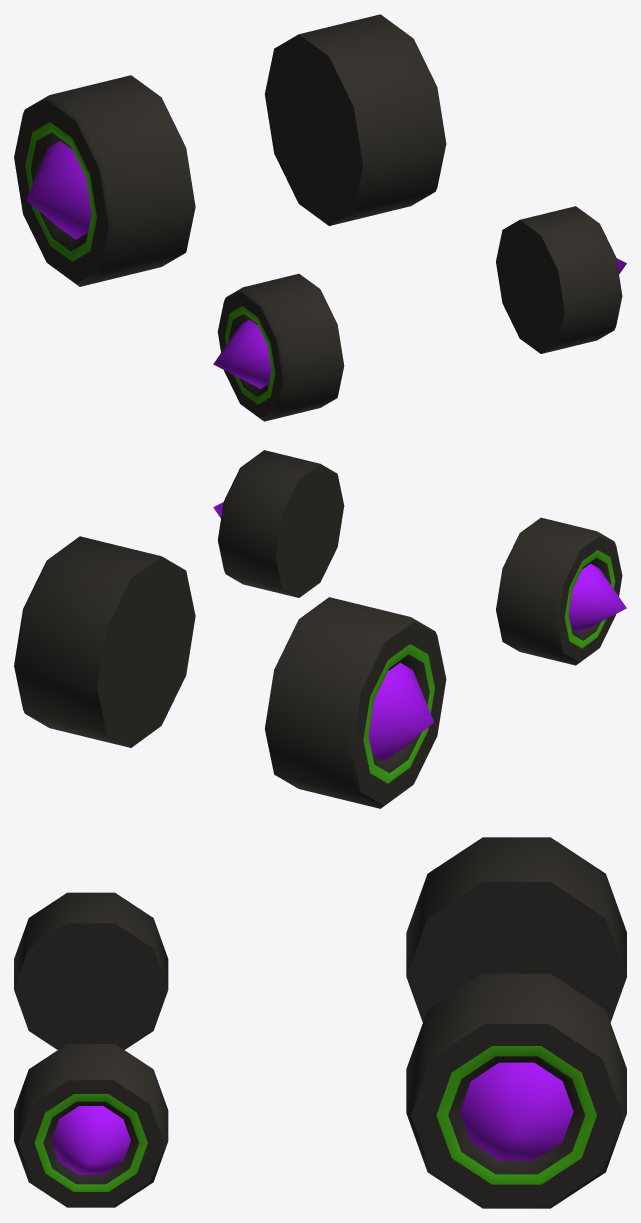
Rendered from LuxWheel00C03.gltf.
3 views of the same model, one above another, from view 1: azimuth 30°, elevation 25°; view 2: azimuth 150°, elevation 25°; view 3: azimuth 270°, elevation 25° (orthographic). The views are drawn at different scales.
Parts seen in each view (by area): view 1: LuxWheel00C03; view 2: LuxWheel00C03; view 3: LuxWheel00C03.
Boxes of the visible parts, x1,y1,x2,y2 form: LuxWheel00C03: [14, 14, 626, 421]; LuxWheel00C03: [14, 450, 626, 808]; LuxWheel00C03: [14, 837, 626, 1208].
Size of the model in its own units: 0.2379 by 0.0932 by 0.2723.
1 material, 1 textured.
